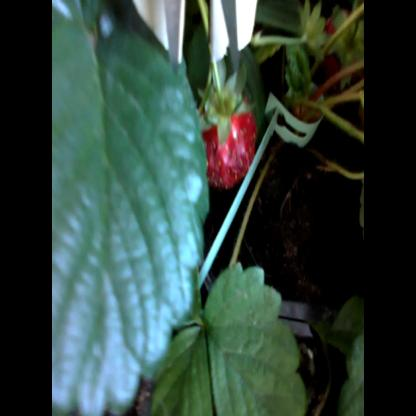ripe: (194, 94, 261, 194)
